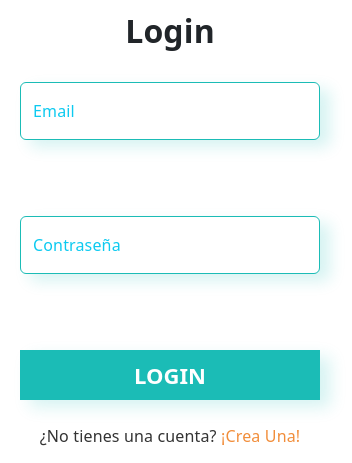
Test: Componente LoginForm › Muestra errores de validación cuando los campos son inválidos
Click the button "LOGIN". click: click(170, 375)
box: [20,350,320,400]
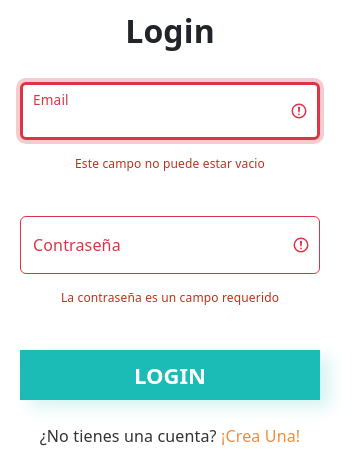
Check: the text "Este campo no puede estar vacio" is shown, box [75,155,265,172]
Check: the text "La contraseña es un campo requerido" is shown, box [61,289,279,306]
